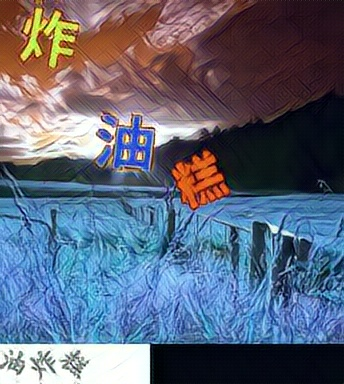B8E2: (168, 143, 231, 210)
D3CD: (93, 105, 156, 172)
D5A8: (19, 4, 82, 71)
